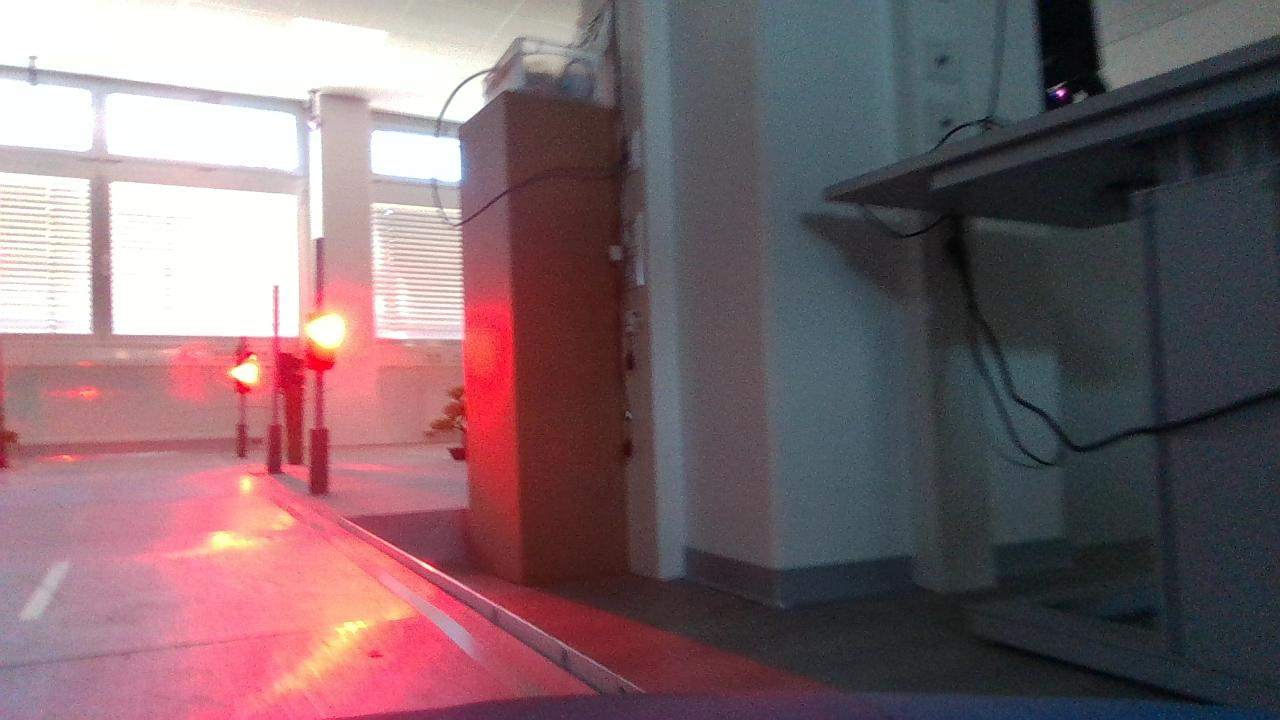traffic_light_red: (298, 313, 350, 376)
